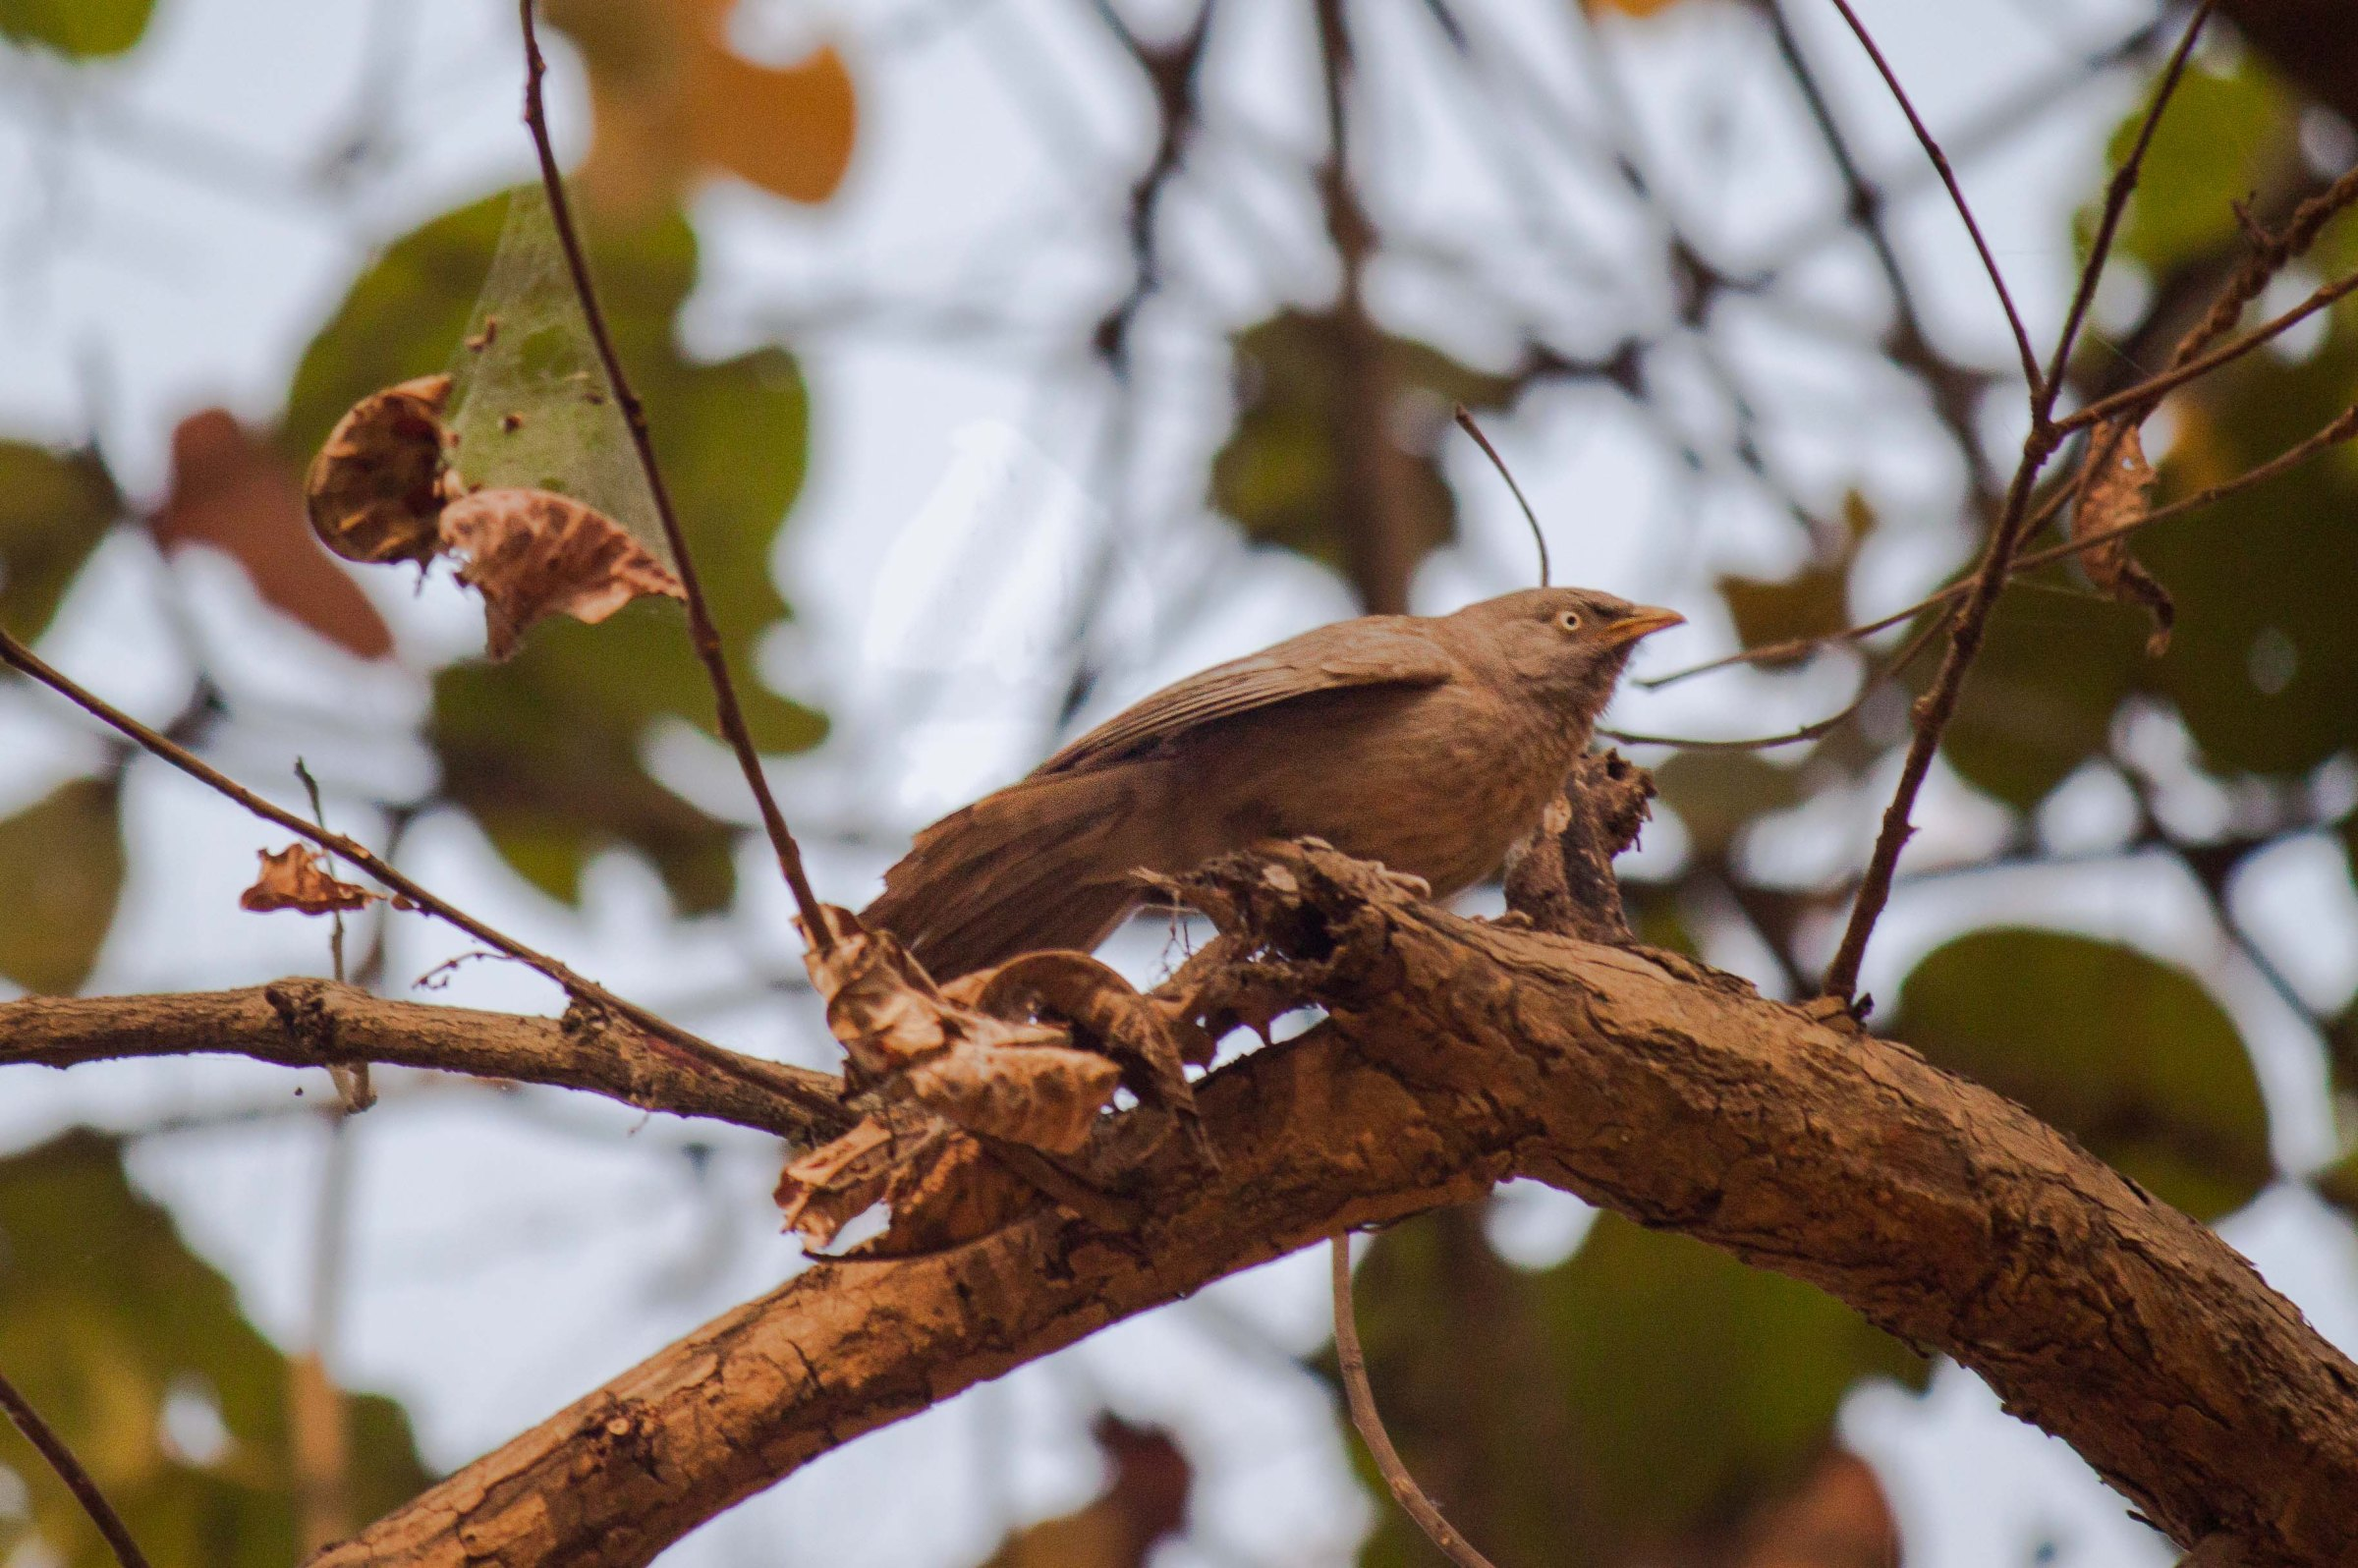bird: (768, 521, 1730, 1092)
